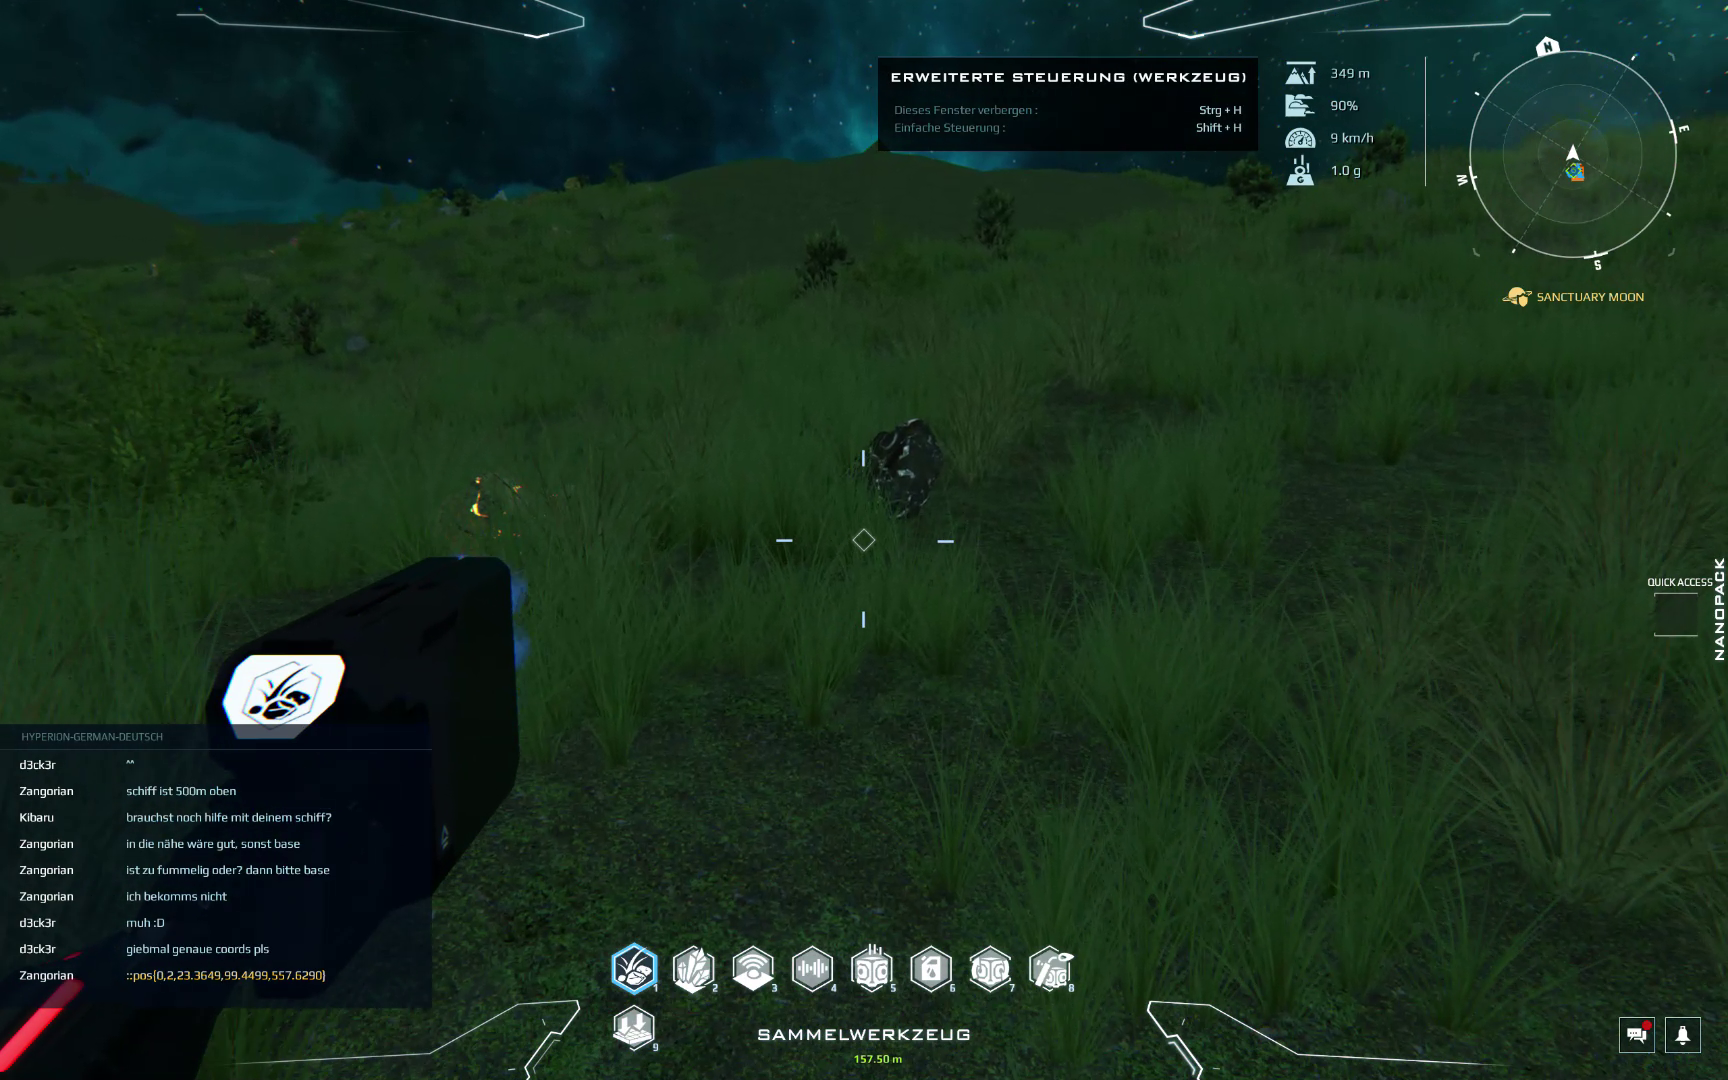Ore: (845, 413, 942, 518), (457, 472, 547, 552)
